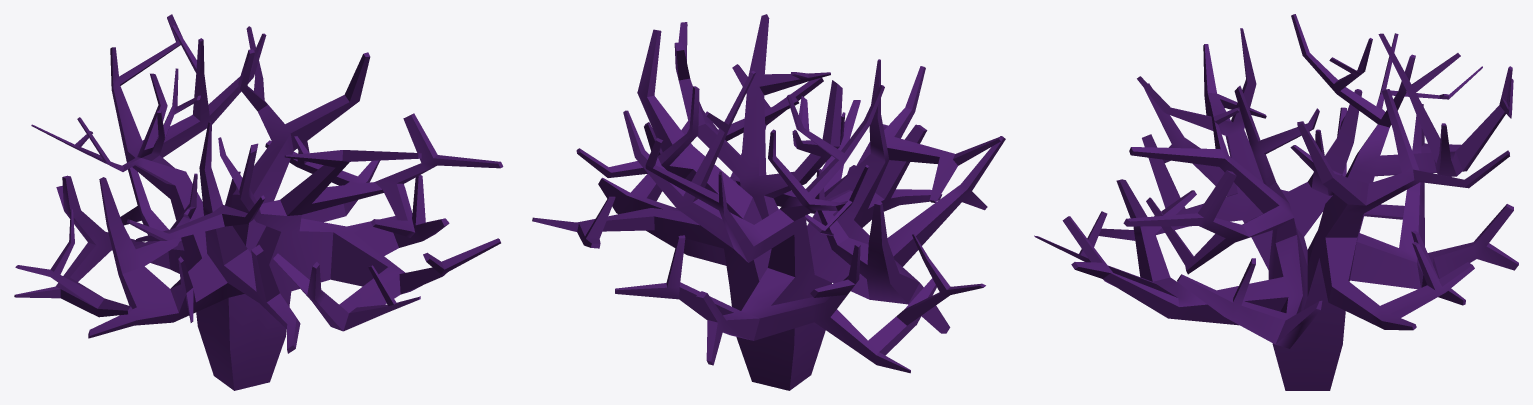
Rendered from Coral_1_Asset.fbx.
The picture shows the model from 3 angles, left to right: view 1: azimuth 30°, elevation 25°; view 2: azimuth 150°, elevation 25°; view 3: azimuth 270°, elevation 25°; orthographic projection. The views are drawn at different scales.
Visible parts, largest first — view 1: pCube1; view 2: pCube1; view 3: pCube1.
Part boxes in pixels (bbox=[...]): pCube1: bbox=[14, 14, 503, 390]; pCube1: bbox=[532, 14, 1005, 390]; pCube1: bbox=[1034, 14, 1518, 390].
Bounding box in the file's own units: 12.67 × 9.66 × 12.33.
